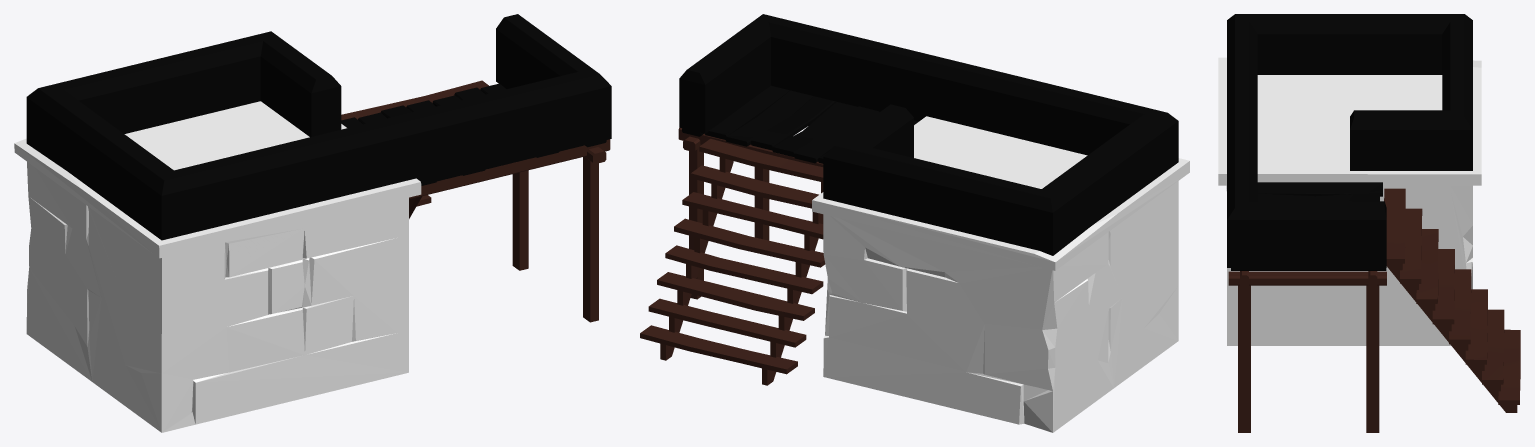
Rendered from roof_building_11.FBX.
3 views of the same model, side by side, from view 1: azimuth 30°, elevation 25°; view 2: azimuth 150°, elevation 25°; view 3: azimuth 270°, elevation 25° (orthographic). The views are drawn at different scales.
Parts seen in each view (by area): view 1: roof_building_11; view 2: roof_building_11; view 3: roof_building_11.
Part boxes in pixels (x1,y1,x2,y2): roof_building_11: [14, 14, 611, 432]; roof_building_11: [640, 14, 1189, 432]; roof_building_11: [1218, 14, 1520, 432].
Size of the model in its own units: 705 by 360 by 438.
